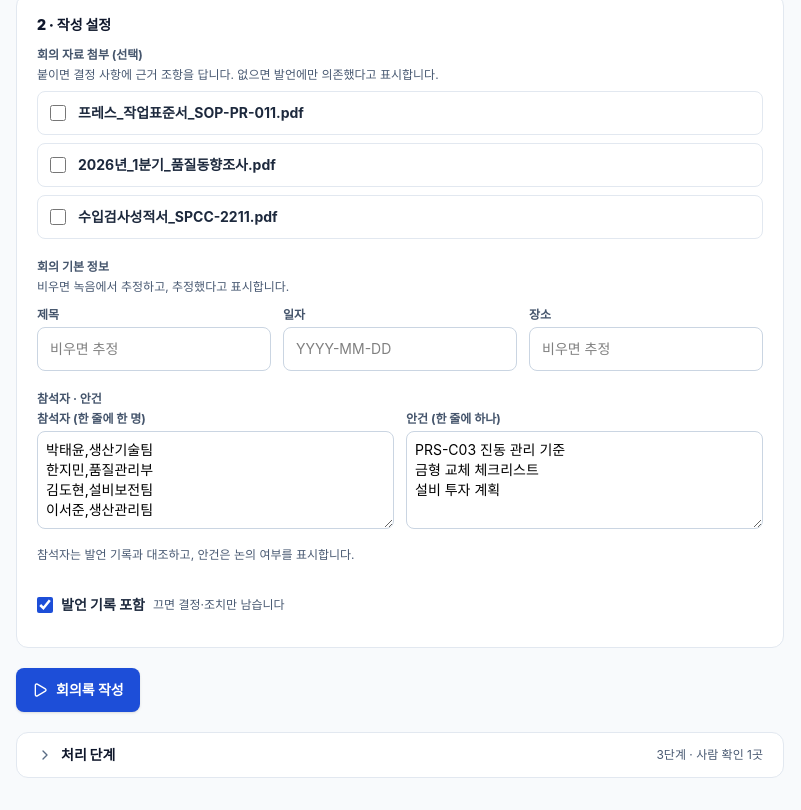
Scenario: MeetingPage › 담당자·기한이 미정인 항목을 미정으로 표시하고 건수를 알린다
(page scrolled)
Click the button "회의록 작성".
click(78, 690)  # box [16, 668, 140, 712]
(page scrolled)
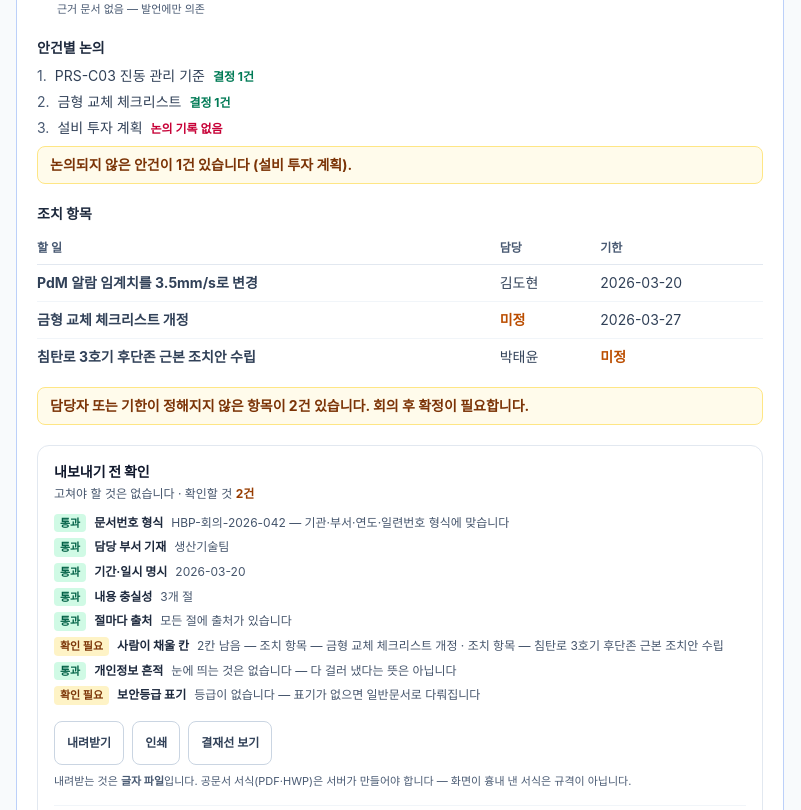
Now the element "3월 3주 공정회의" shows "미정", box [500, 311, 526, 328]
Now the text "담당자 또는 기한이 정해지지 않은 항목이 2건 있습니다. 회의 후 확정이 필요합니다." is shown, box [37, 387, 763, 425]
